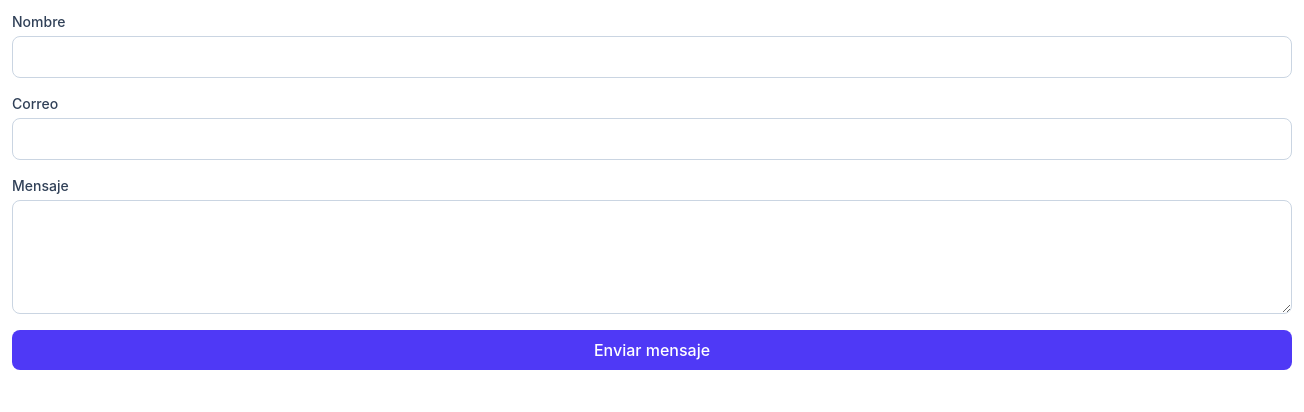
ContactForm › muestra un error si el correo no es válido
Type "Ana" into the field labelled "Nombre" at (652, 57), box [12,36,1292,78]
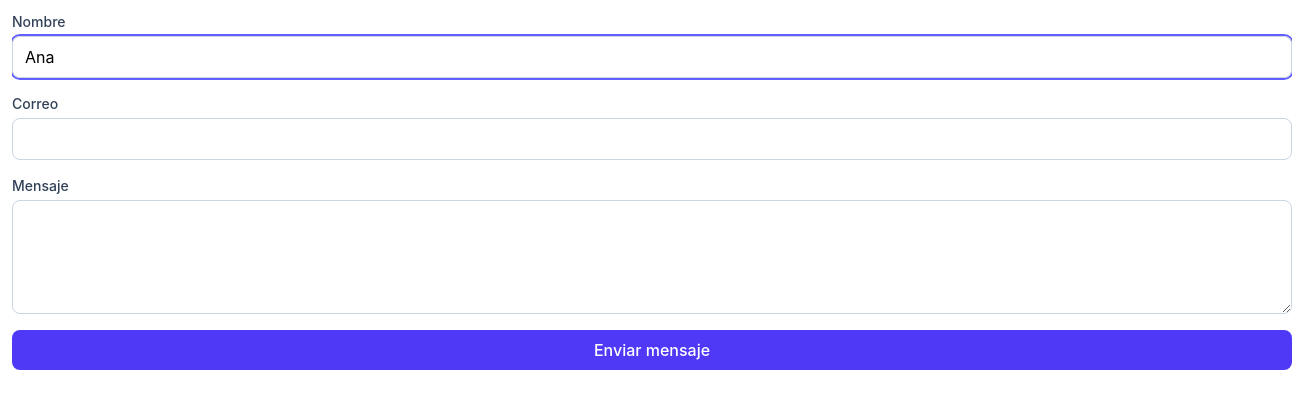
Type "correo-sin-arroba" into the field labelled "Correo" at (652, 139), box [12,118,1292,160]
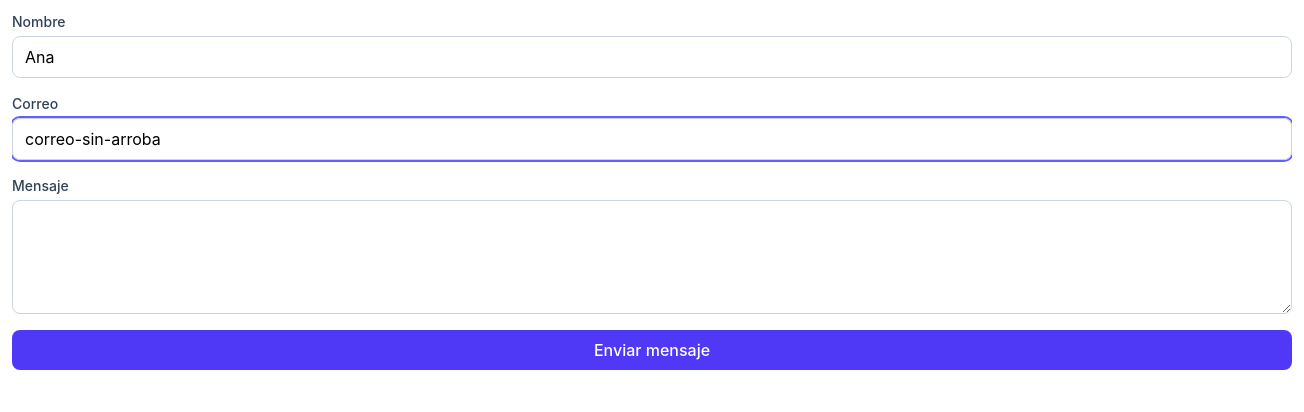
Type "Un mensaje suficientemente largo" into the text box labelled "Mensaje" at (652, 257), box [12,200,1292,314]
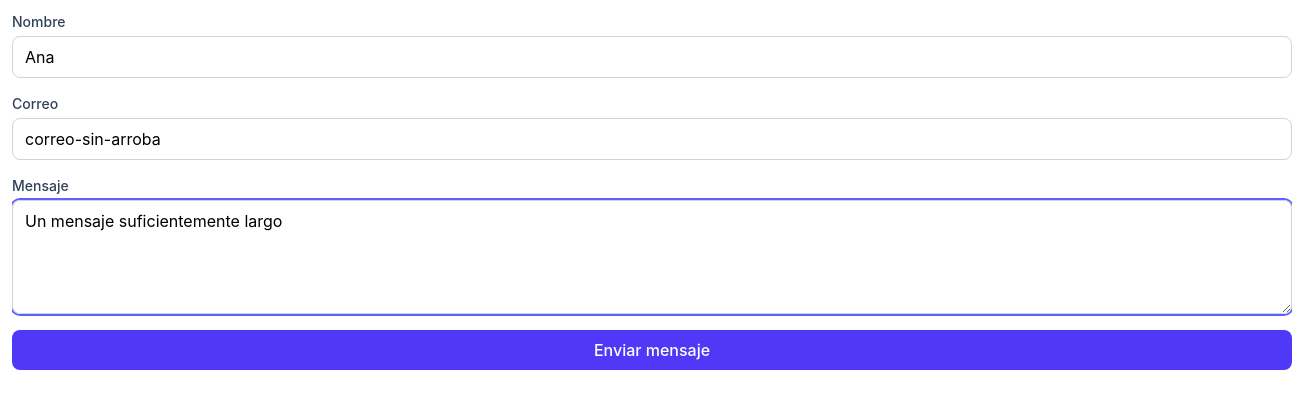
Click the button "Enviar mensaje" at (652, 350), box [12,330,1292,370]
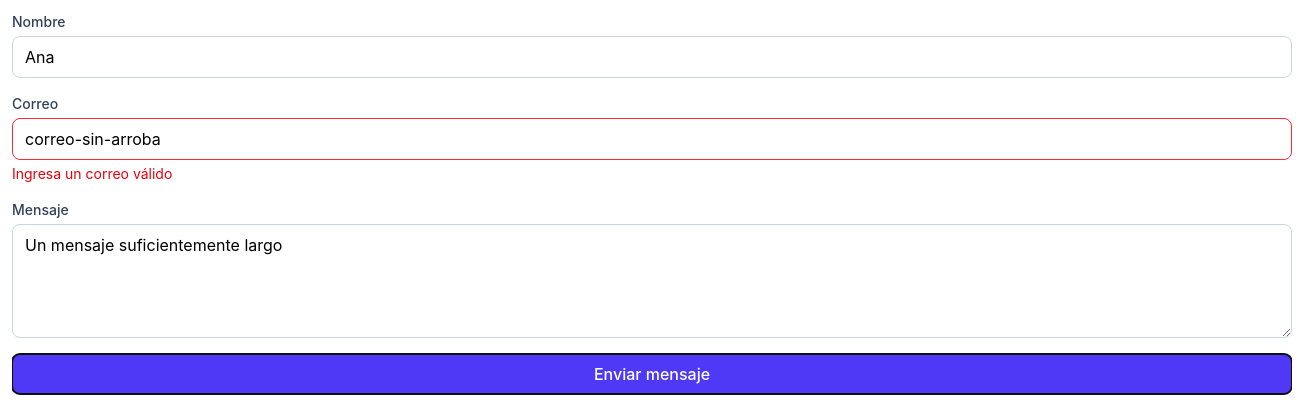
Result: the text "Ingresa un correo válido" is shown at [12,165,172,182]
